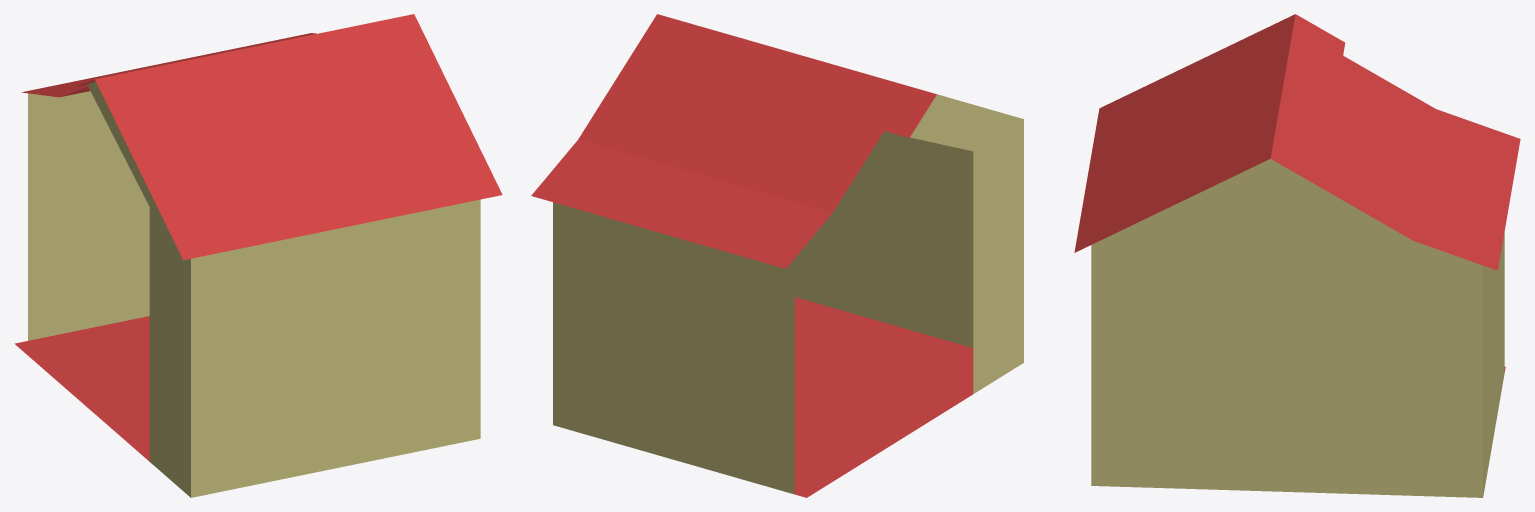
3 views of the same model, side by side, from view 1: azimuth 30°, elevation 25°; view 2: azimuth 150°, elevation 25°; view 3: azimuth 270°, elevation 25° (orthographic). The views are drawn at different scales.
Size of the model in its own units: 11.71 by 14 by 11.75.
